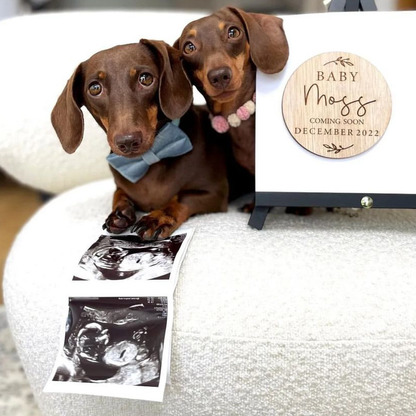dachshund: (59, 47, 200, 251), (173, 7, 287, 164)
